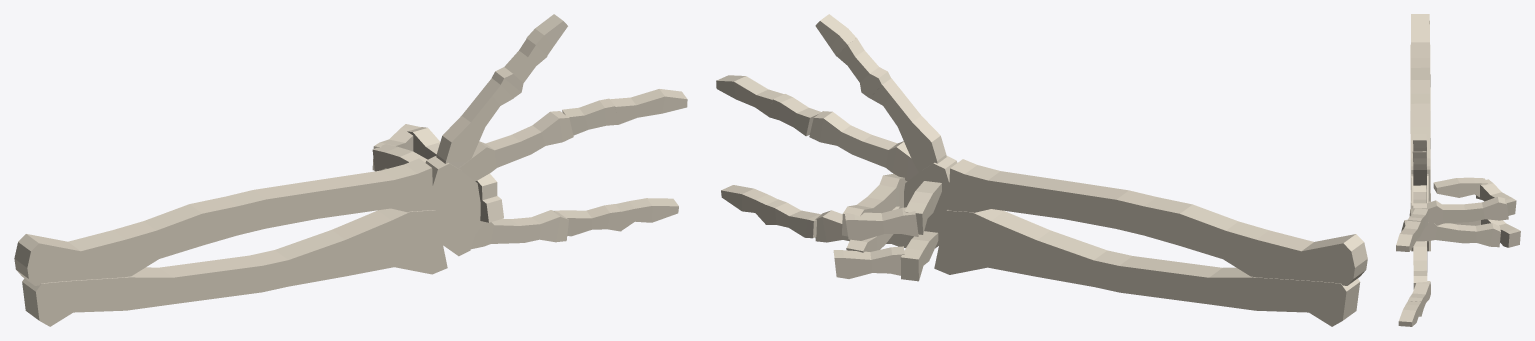
Rendered from SpideyHand.fbx.
The picture shows the model from 3 angles, left to right: view 1: azimuth 30°, elevation 25°; view 2: azimuth 150°, elevation 25°; view 3: azimuth 270°, elevation 25°; orthographic projection. The views are drawn at different scales.
Visible parts, largest first — view 1: SpideyHand; view 2: SpideyHand; view 3: SpideyHand.
Part boxes in pixels (x1,y1,x2,y2): SpideyHand: [14, 14, 687, 326]; SpideyHand: [716, 14, 1367, 326]; SpideyHand: [1396, 14, 1520, 326].
Bounding box in the file's own units: 90.57 × 29.35 × 20.47.
